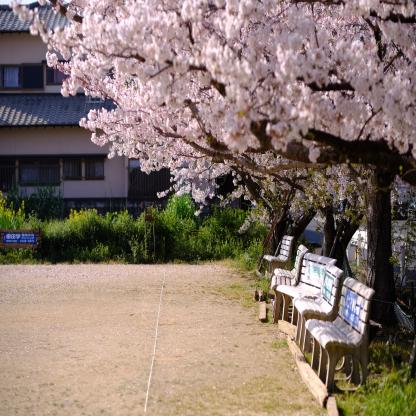Someiyoshino: (1, 1, 416, 209)
